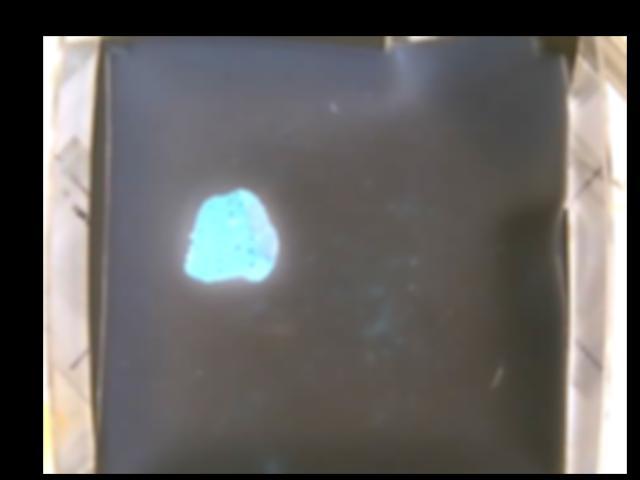Brisk: (185, 188, 275, 284)
